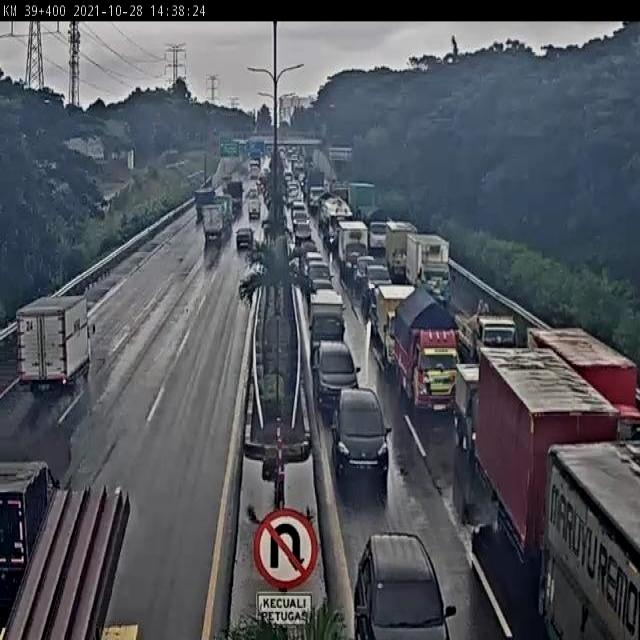Car: (351, 535, 459, 640), (331, 384, 392, 496), (317, 343, 361, 418), (304, 264, 344, 313), (365, 265, 394, 317), (304, 315, 350, 346), (238, 226, 254, 252), (297, 241, 322, 254), (248, 199, 263, 218), (292, 211, 307, 225)
Truck: (467, 348, 640, 640), (377, 285, 461, 412), (11, 296, 102, 406), (408, 230, 457, 304), (336, 222, 370, 282), (202, 197, 230, 244), (226, 181, 243, 213)
